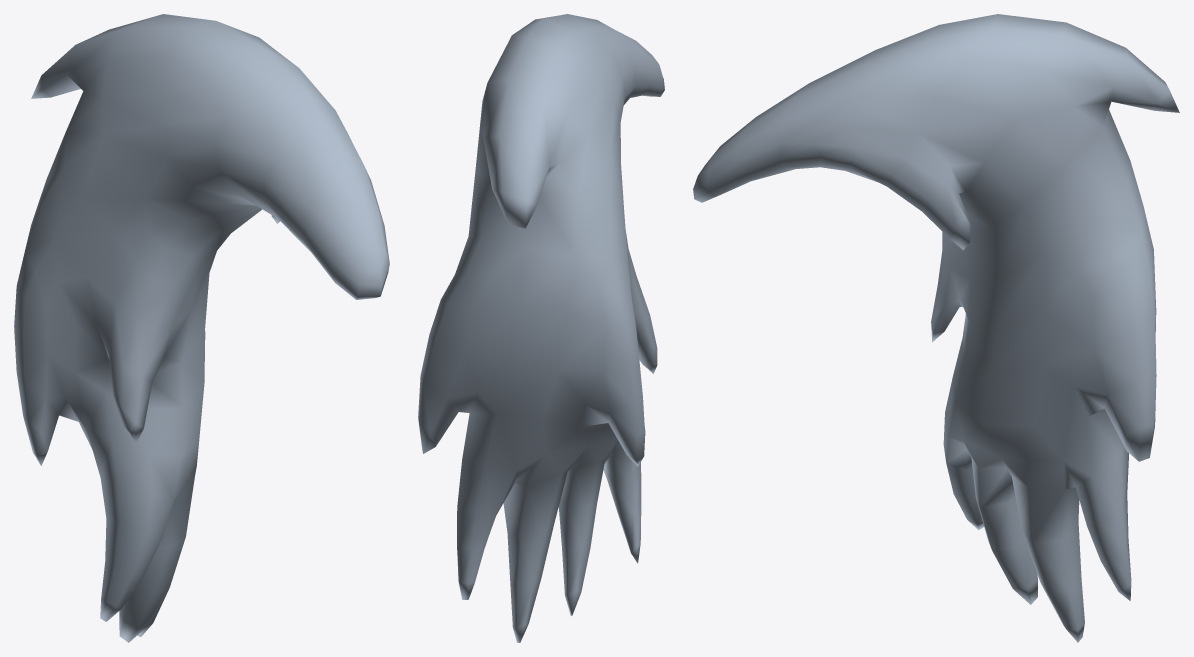
File: Tail_12.fbx
The picture shows the model from 3 angles, left to right: view 1: azimuth 30°, elevation 25°; view 2: azimuth 150°, elevation 25°; view 3: azimuth 270°, elevation 25°; orthographic projection. The views are drawn at different scales.
Visible parts, largest first — view 1: Tail_12; view 2: Tail_12; view 3: Tail_12.
Part boxes in pixels (left/top/right/bottom): Tail_12: left=14, top=14, right=389, bottom=642; Tail_12: left=418, top=14, right=664, bottom=642; Tail_12: left=693, top=14, right=1179, bottom=642.
Bounding box in the file's own units: 99.42 × 264 × 185.
